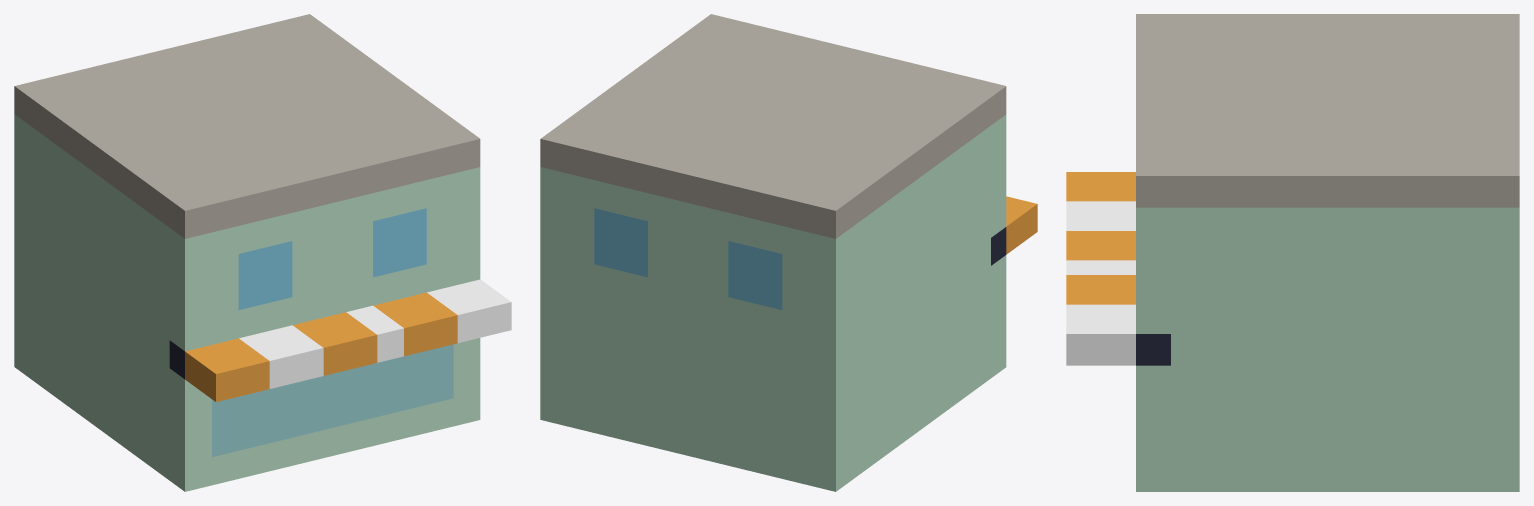
The model's file is shop.glb.
3 views of the same model, side by side, from view 1: azimuth 30°, elevation 25°; view 2: azimuth 150°, elevation 25°; view 3: azimuth 270°, elevation 25° (orthographic). The views are drawn at different scales.
Parts seen in each view (by area): view 1: shop_wall_mint, shop_roof_flat, shop_glass, shop_awning, shop_white, shop_window; view 2: shop_wall_mint, shop_roof_flat, shop_window, shop_awning; view 3: shop_wall_mint, shop_roof_flat, shop_white, shop_awning, shop_black.
Part boxes in pixels (x1,y1,x2,y2): shop_wall_mint: [14, 114, 480, 491]; shop_roof_flat: [14, 14, 480, 238]; shop_glass: [212, 344, 453, 457]; shop_awning: [185, 292, 457, 402]; shop_white: [239, 279, 511, 388]; shop_window: [238, 208, 426, 309]; shop_wall_mint: [540, 114, 1006, 491]; shop_roof_flat: [540, 14, 1006, 238]; shop_window: [594, 208, 782, 309]; shop_awning: [1006, 196, 1037, 254]; shop_wall_mint: [1136, 207, 1519, 491]; shop_roof_flat: [1136, 14, 1519, 207]; shop_white: [1066, 201, 1135, 365]; shop_awning: [1066, 172, 1135, 304]; shop_black: [1136, 334, 1170, 365].
Size of the model in its own units: 9.11 by 8.28 by 10.76.
